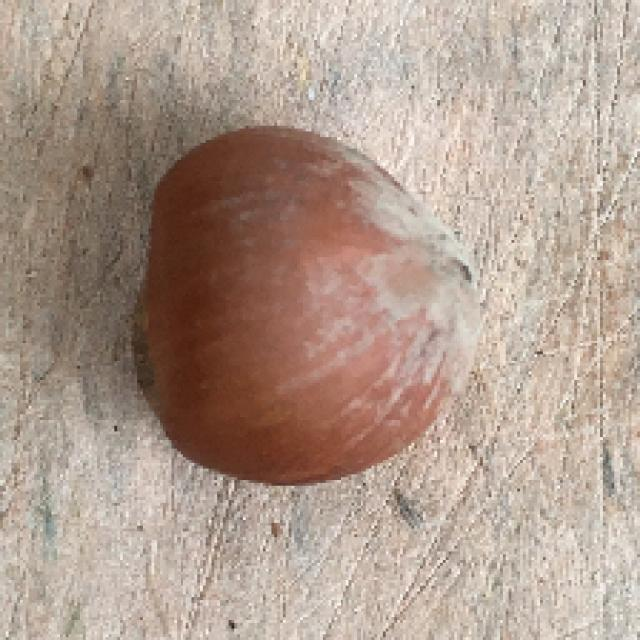qualityHazelnut: (130, 108, 480, 498)
